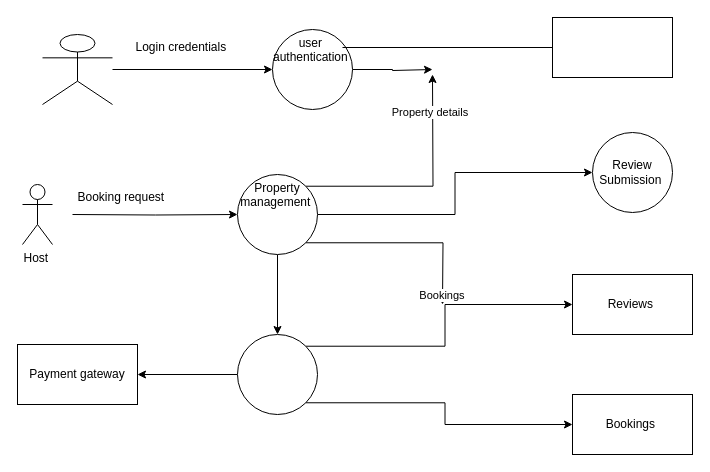
The diagram is 710 pixels wide and 472 high, and some of its shapes have lost their labels. Each missing label, with the centre of its shape:
"Guest" goes at pixel 77 69.
"Payment processing" goes at pixel 277 374.
"Properties" goes at pixel 612 47.
